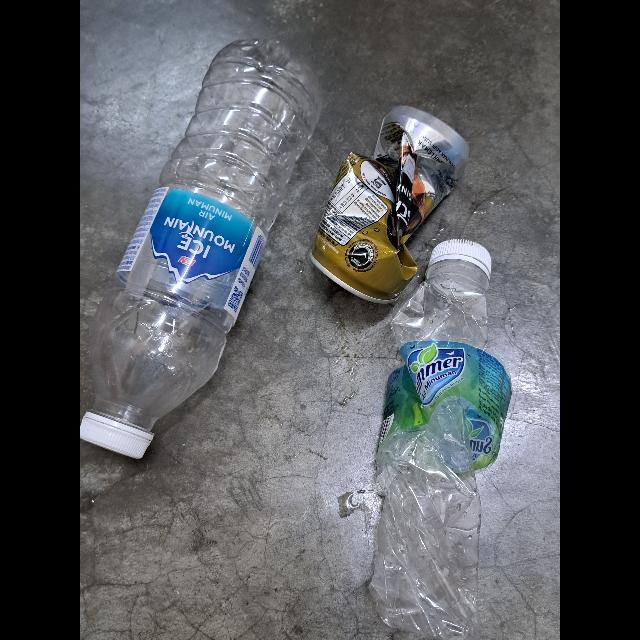garrafa plástica: (85, 44, 319, 432), (377, 280, 505, 640)
lata: (314, 108, 464, 310)
tampa plástica: (80, 410, 152, 460), (431, 239, 497, 277)
